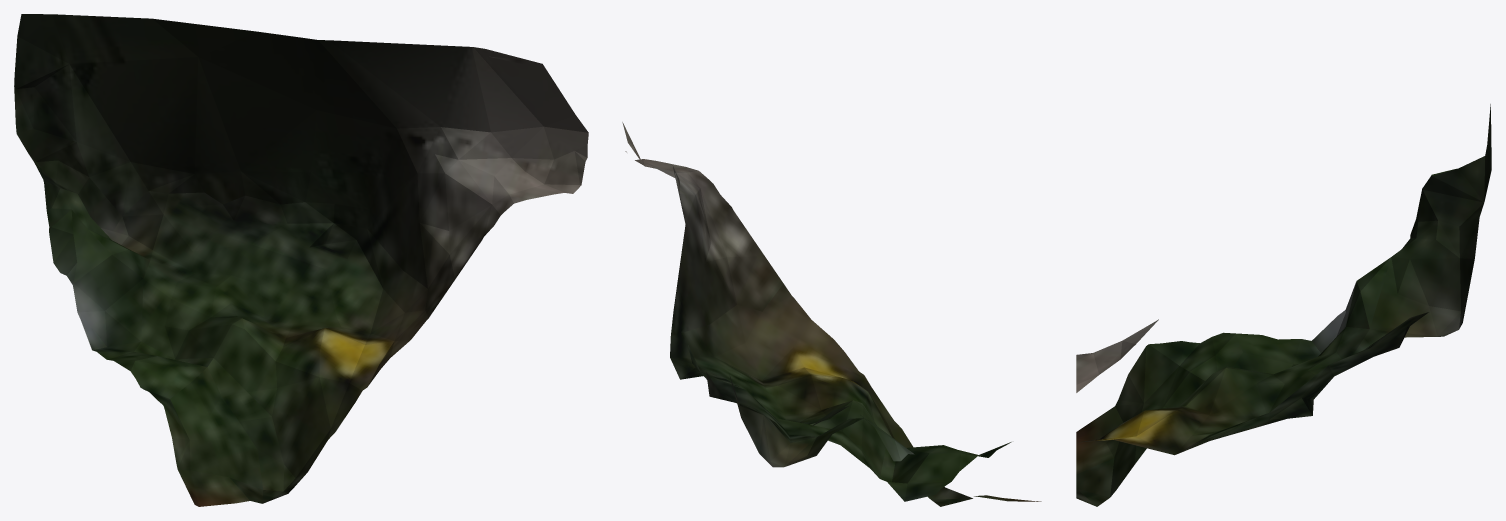
The picture shows the model from 3 angles, left to right: view 1: azimuth 30°, elevation 25°; view 2: azimuth 150°, elevation 25°; view 3: azimuth 270°, elevation 25°; orthographic projection. The views are drawn at different scales.
Size of the model in its own units: 0.4592 by 0.4243 by 0.3649.
Materials: 1 (1 with a texture image).
